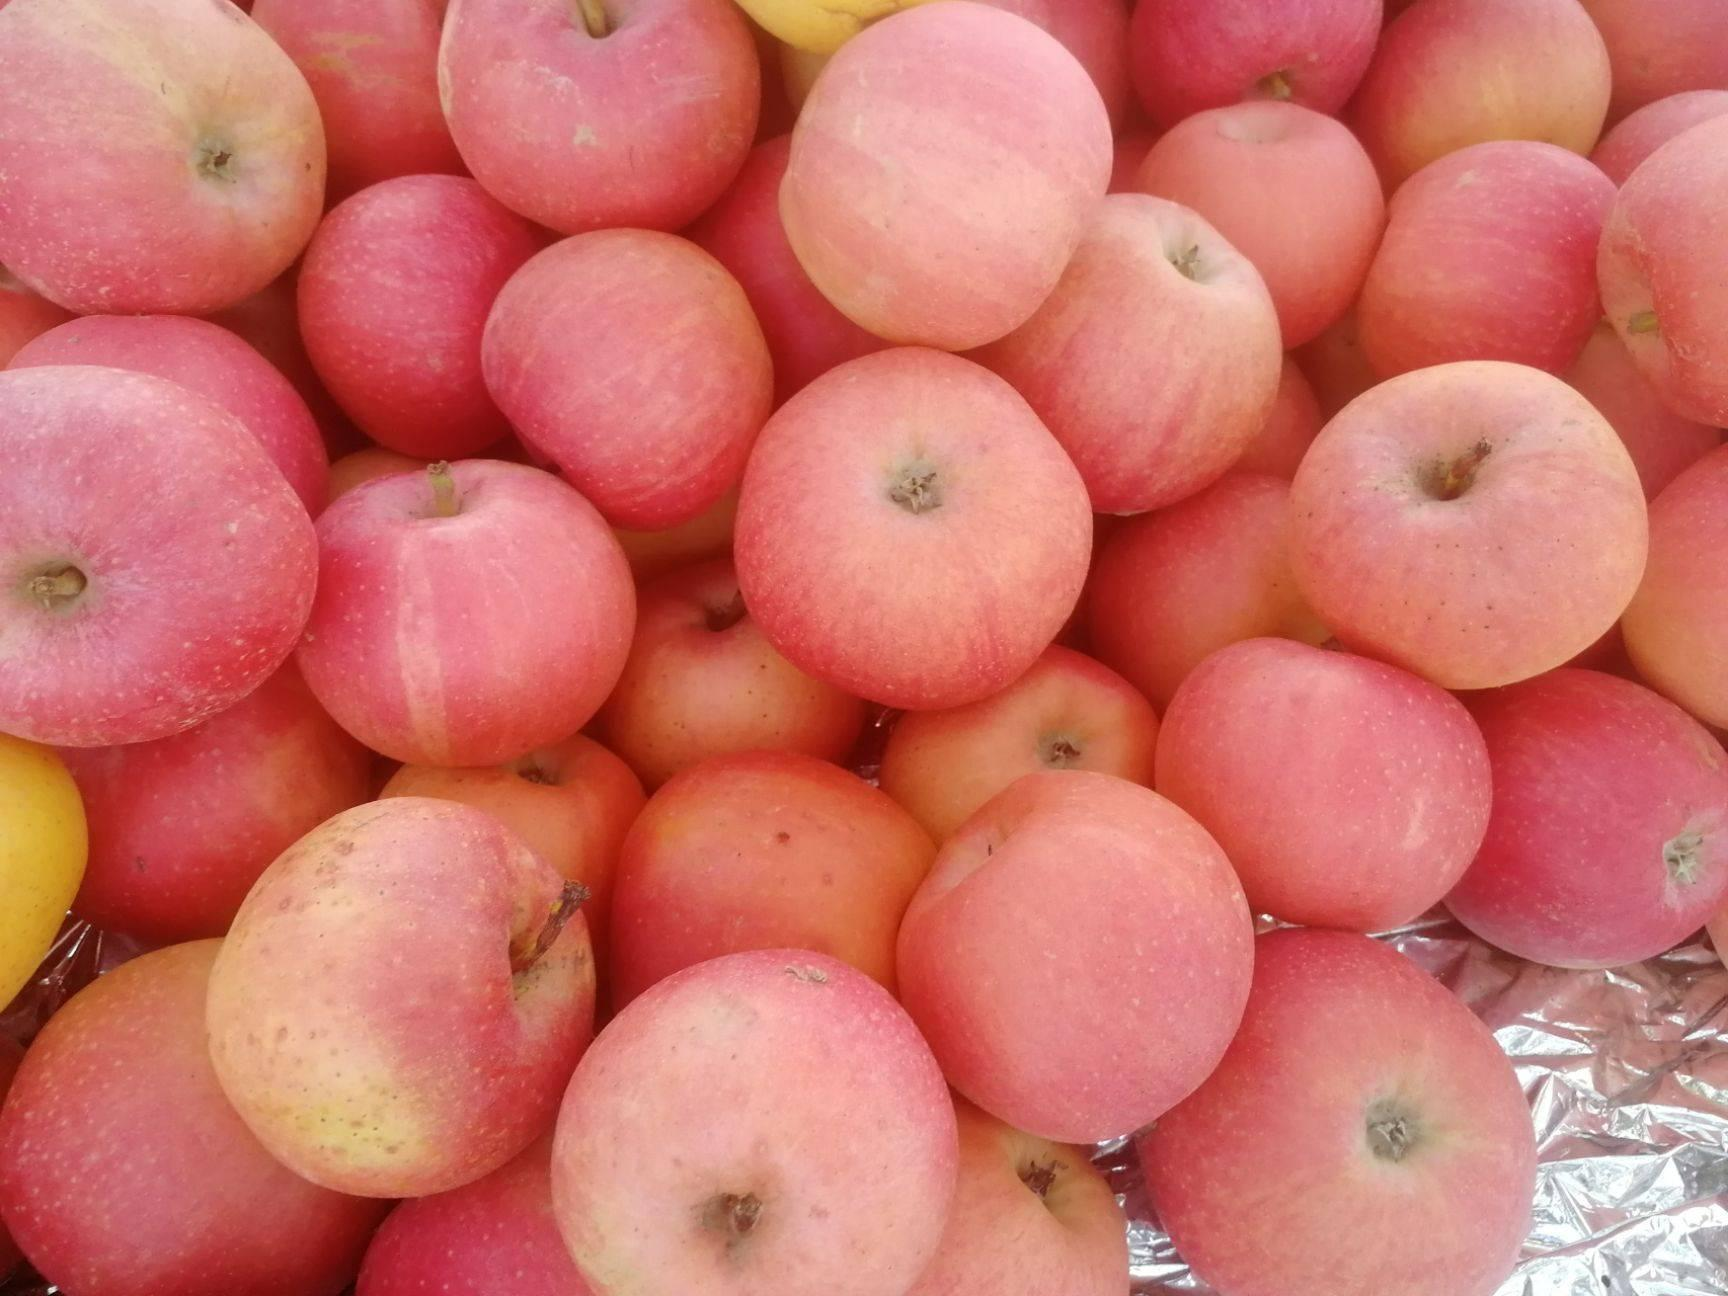apple: (555, 937, 962, 1292), (1123, 933, 1535, 1282), (891, 766, 1255, 1159), (1, 933, 386, 1285), (225, 807, 580, 1188), (728, 349, 1093, 719), (1, 357, 322, 749), (1280, 359, 1646, 696), (771, 5, 1118, 351), (297, 455, 634, 773), (1148, 634, 1493, 946), (1, 1, 324, 325), (472, 225, 776, 531), (1010, 184, 1283, 521), (1426, 673, 1727, 971), (56, 681, 371, 952), (288, 172, 552, 459), (439, 1, 759, 238), (1361, 140, 1614, 393), (1133, 97, 1389, 347), (610, 551, 874, 780), (874, 643, 1165, 830), (1348, 1, 1608, 195), (239, 1, 464, 201), (371, 1184, 578, 1296)
